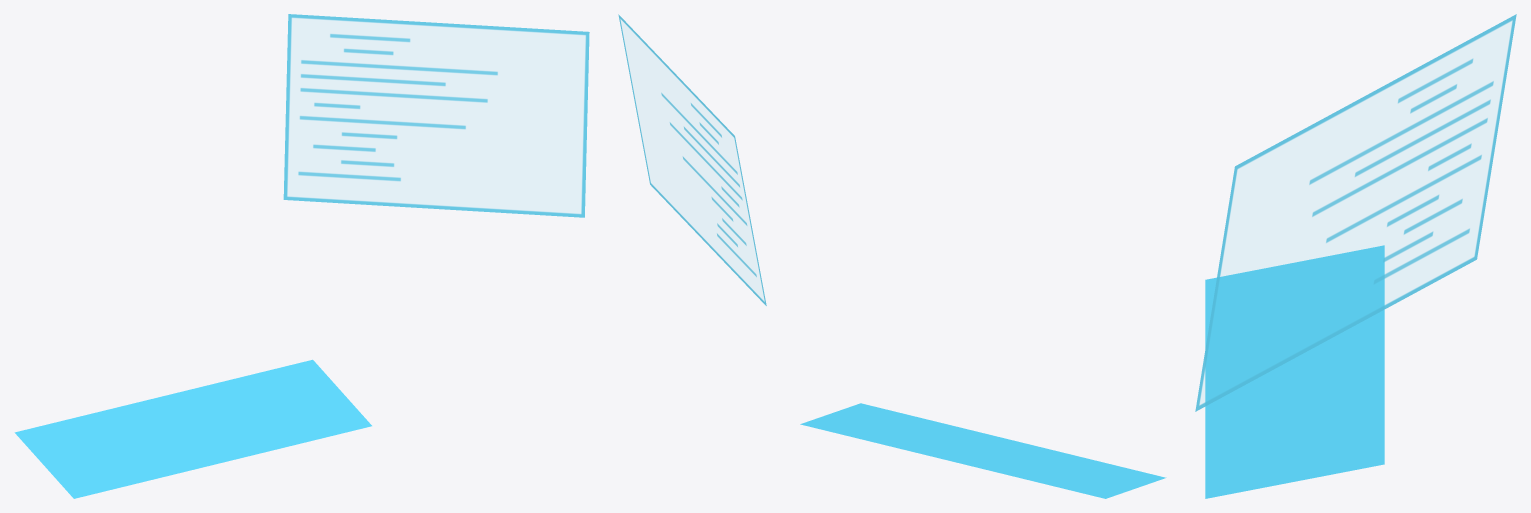
File: holo.glb
3 views of the same model, side by side, from view 1: azimuth 30°, elevation 25°; view 2: azimuth 150°, elevation 25°; view 3: azimuth 270°, elevation 25° (orthographic). The views are drawn at different scales.
Visible parts, largest first — view 1: holo; view 2: holo; view 3: holo.
Part boxes in pixels (left/top/right/bottom): holo: left=14, top=14, right=589, bottom=498; holo: left=618, top=14, right=1166, bottom=498; holo: left=1195, top=14, right=1516, bottom=498.
Bounding box in the file's own units: 0.5984 × 0.361 × 0.2107.
2 materials, 2 textured.
